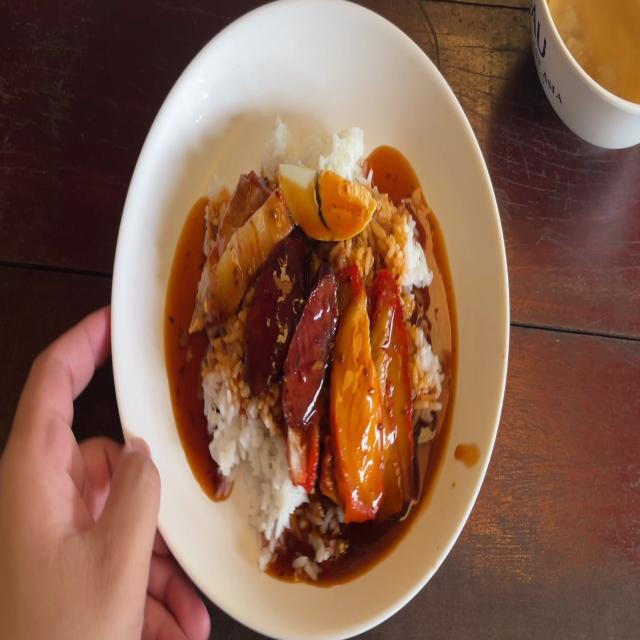red_pork_and_crispy_pork: (278, 166, 376, 244)
stir_fried_basil: (248, 243, 340, 412)
